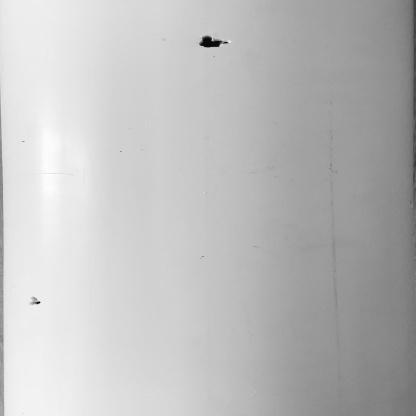kongdong: (196, 32, 245, 53), (29, 293, 49, 307)
